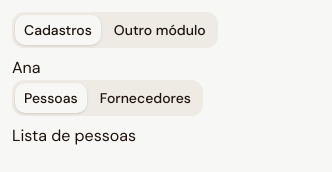
Test case: trocar uma sub-aba não altera a seleção nem o formulário da aba principal
Press the mouse on the tab "Fornecedores" at x=145, y=98, box x1=91 y1=83 x2=200 y2=113
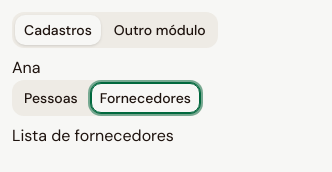
Check: the field named "Busca preservada" holds "Ana", box x1=12 y1=56 x2=200 y2=80
Check: the panel "fornecedores" reads "Lista de fornecedores", box x1=12 y1=125 x2=174 y2=146
